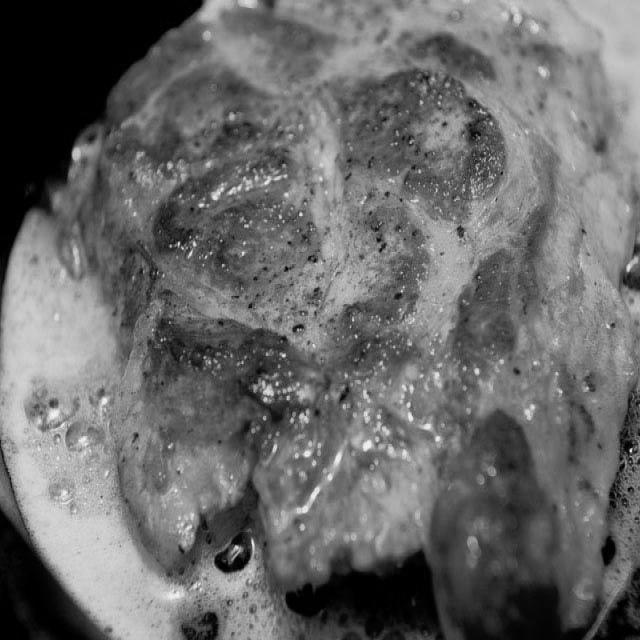OK cooked pork,: (47, 0, 640, 640)
